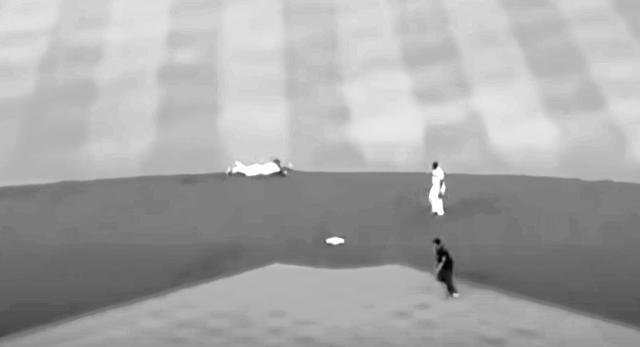jatuh: (221, 152, 297, 186)
